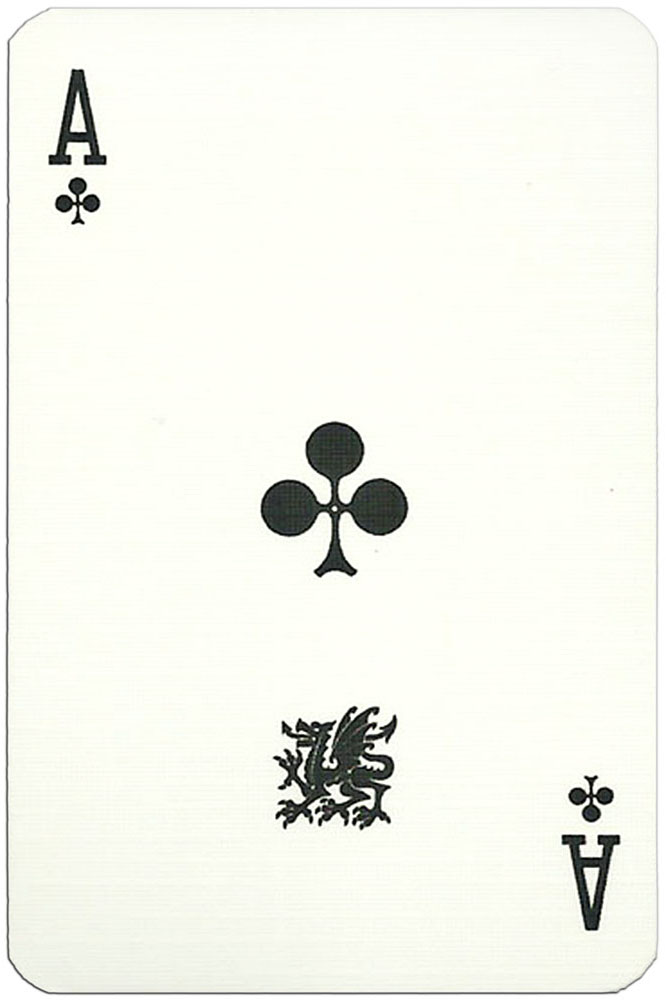ace of clubs: (9, 9, 661, 988)
